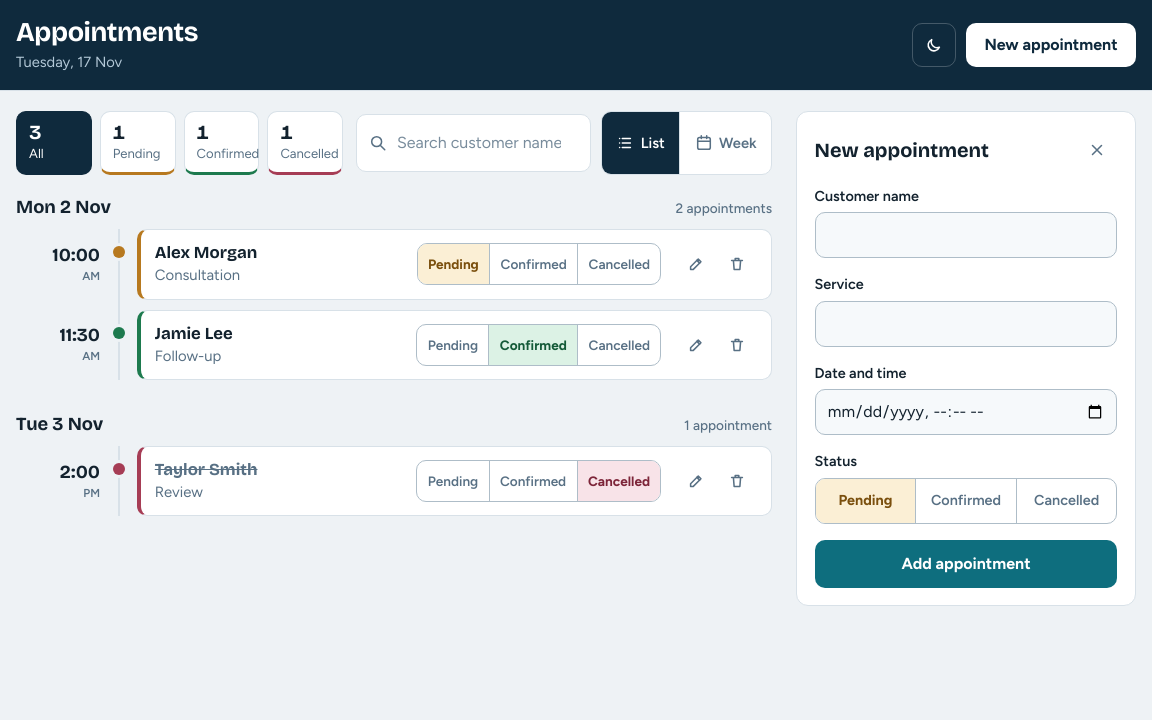
Test case: Appointment Manager UI › searches by customer name and combines with the status filter
Expected: the text "Alex Morgan" is shown, x1=155 y1=242 x2=257 y2=263
Type "JAM" into the search field named "Search by customer name" at [474, 143], box x1=356 y1=114 x2=591 y2=172
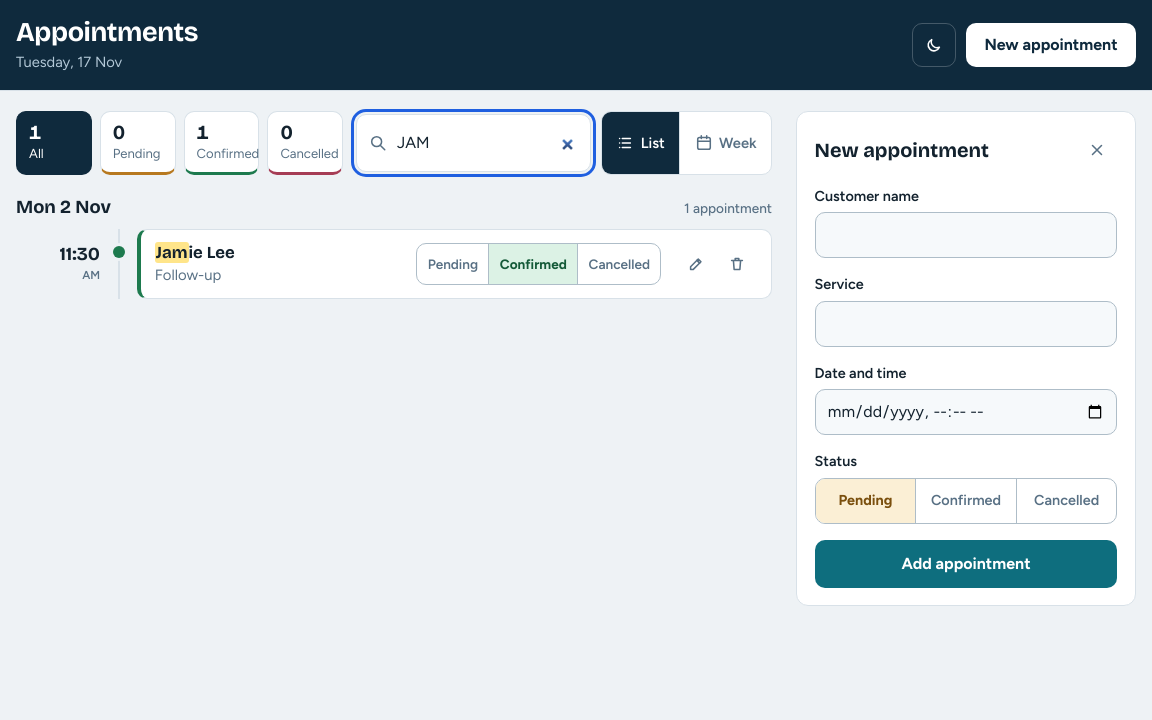
Expected: the element "Jamie Lee Follow-up Pending Confirmed Cancelled" is shown, x1=137 y1=229 x2=772 y2=300
Now the text "Alex Morgan" is gone
Click the button "0 Pending" at [138, 143], box x1=100 y1=111 x2=176 y2=175
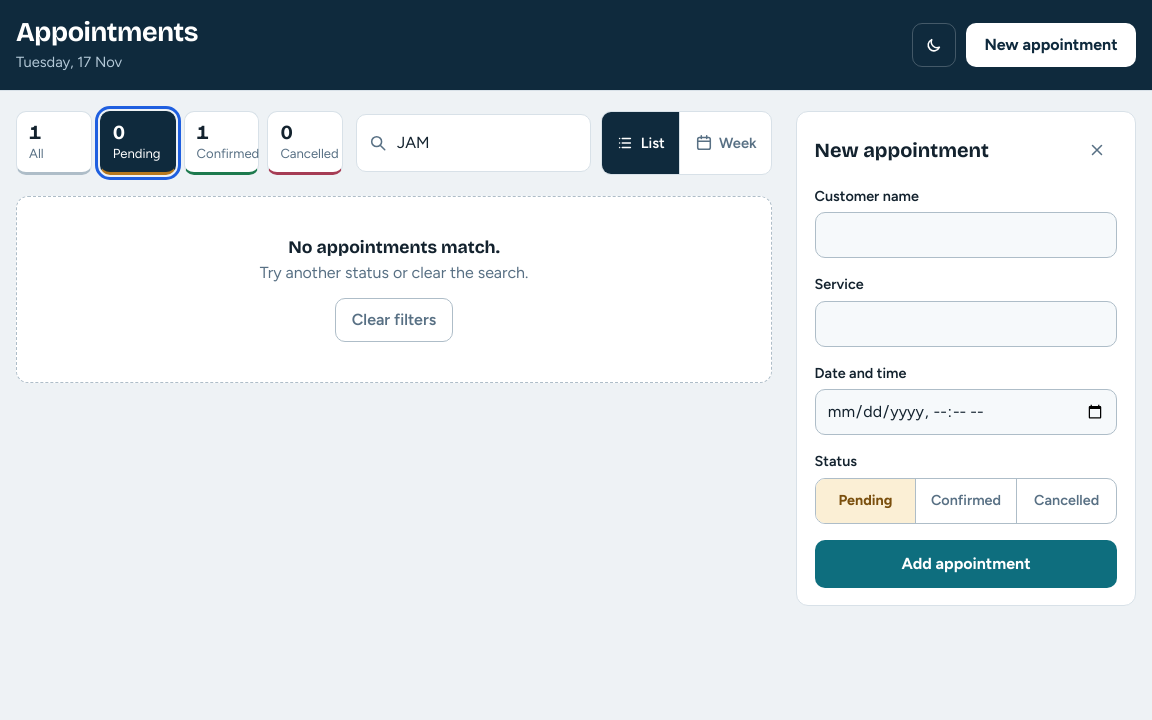
Now the text "No appointments match." is shown, box x1=288 y1=237 x2=500 y2=258
Click the button "Clear filters" at [394, 320], box x1=335 y1=298 x2=453 y2=342
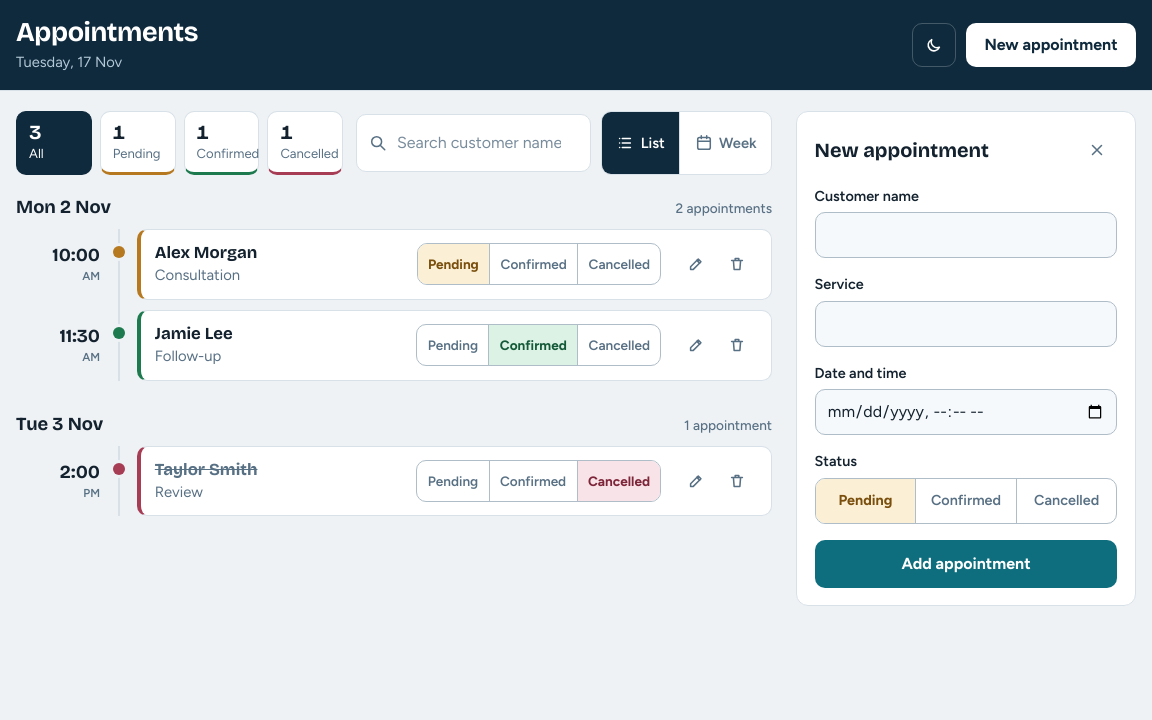
Now the text "Alex Morgan" is shown, box x1=155 y1=242 x2=257 y2=263
